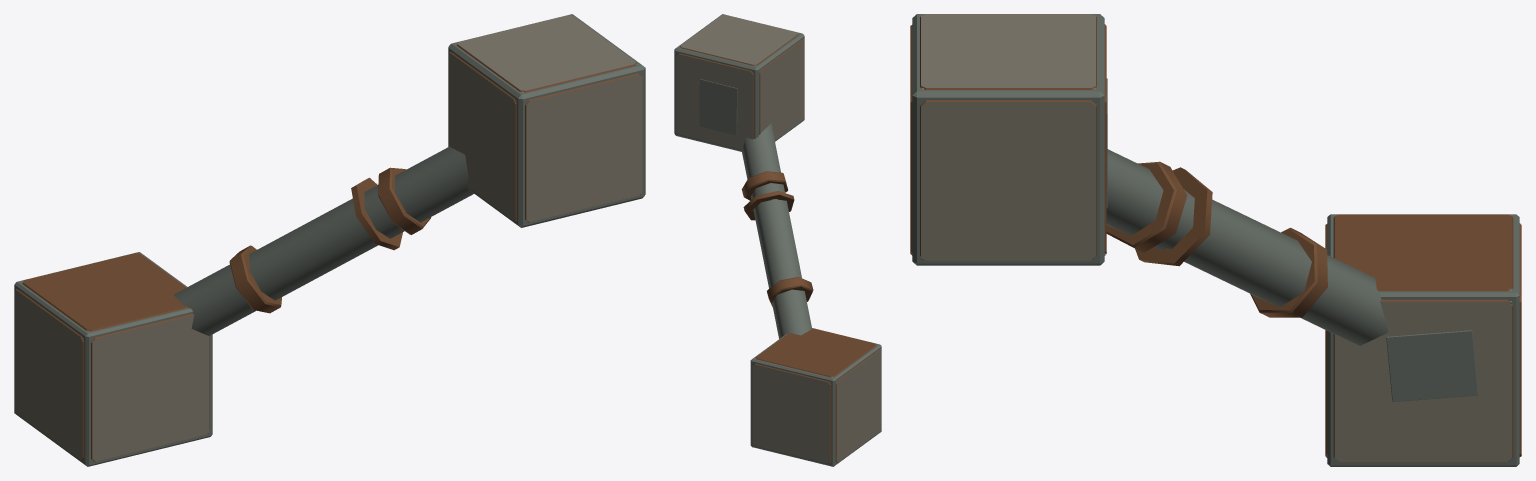
Rendered from R4C_STRUT_DIAG_3D.fbx.
The picture shows the model from 3 angles, left to right: view 1: azimuth 30°, elevation 25°; view 2: azimuth 150°, elevation 25°; view 3: azimuth 270°, elevation 25°; orthographic projection. The views are drawn at different scales.
Visible parts, largest first — view 1: R4C_STRUT_DIAG_3D; view 2: R4C_STRUT_DIAG_3D; view 3: R4C_STRUT_DIAG_3D.
Part boxes in pixels (x1,y1,x2,y2): R4C_STRUT_DIAG_3D: (14, 14, 645, 466); R4C_STRUT_DIAG_3D: (674, 14, 881, 466); R4C_STRUT_DIAG_3D: (910, 14, 1521, 466).
Size of the model in its own units: 1.62 by 1.62 by 1.62.
